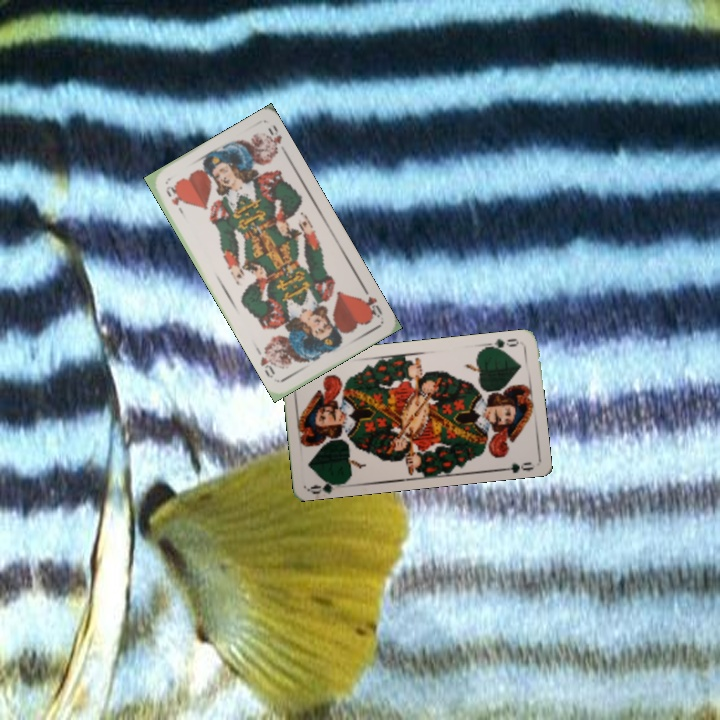GO: (307, 475, 348, 495), (482, 334, 521, 354)
HO: (358, 284, 385, 320), (161, 182, 187, 218)
